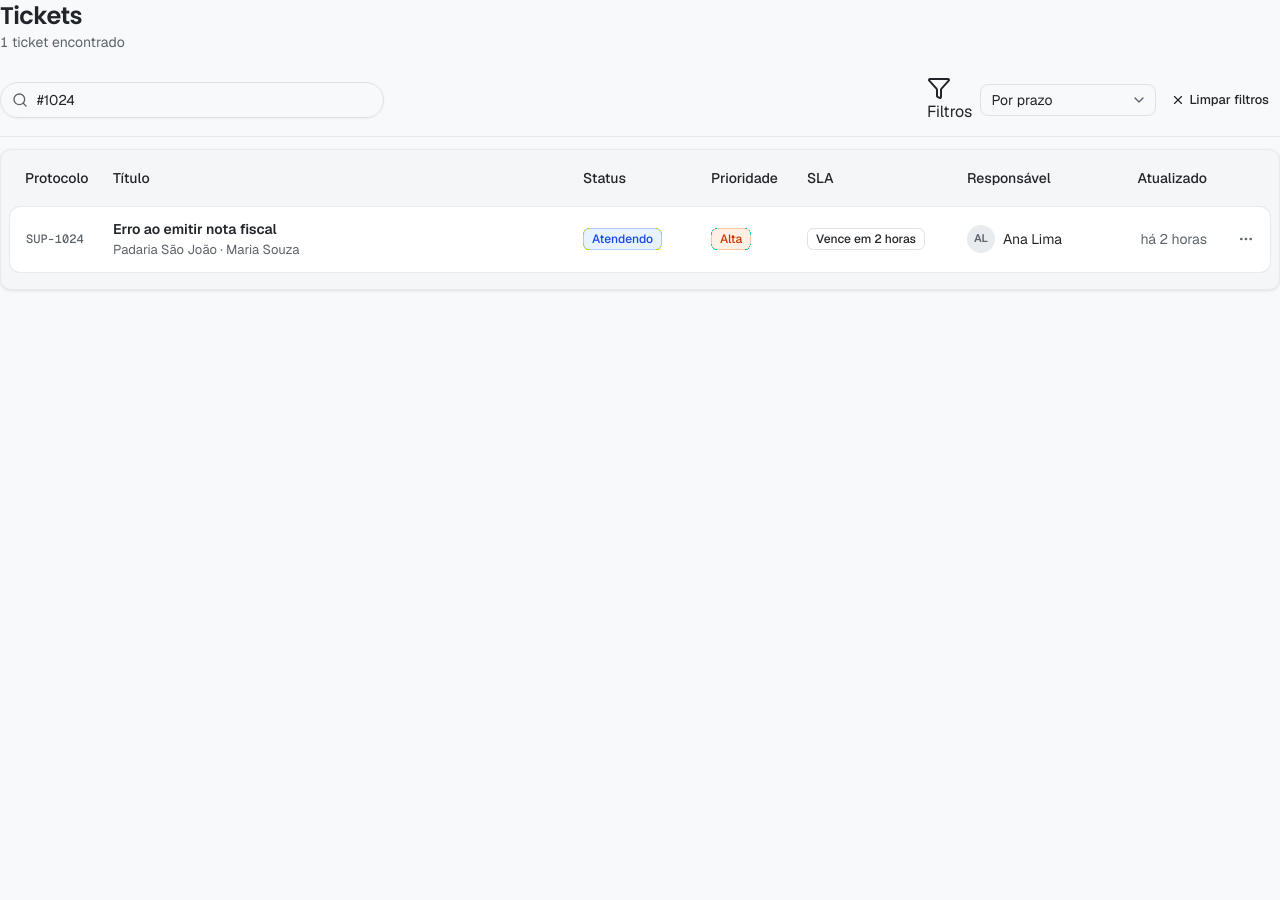
Test: TicketsTable — busca › protocolo na busca avisa, no painel, que o status é ignorado
Click the button "Filtros" at (950, 100), box [927,76,972,124]
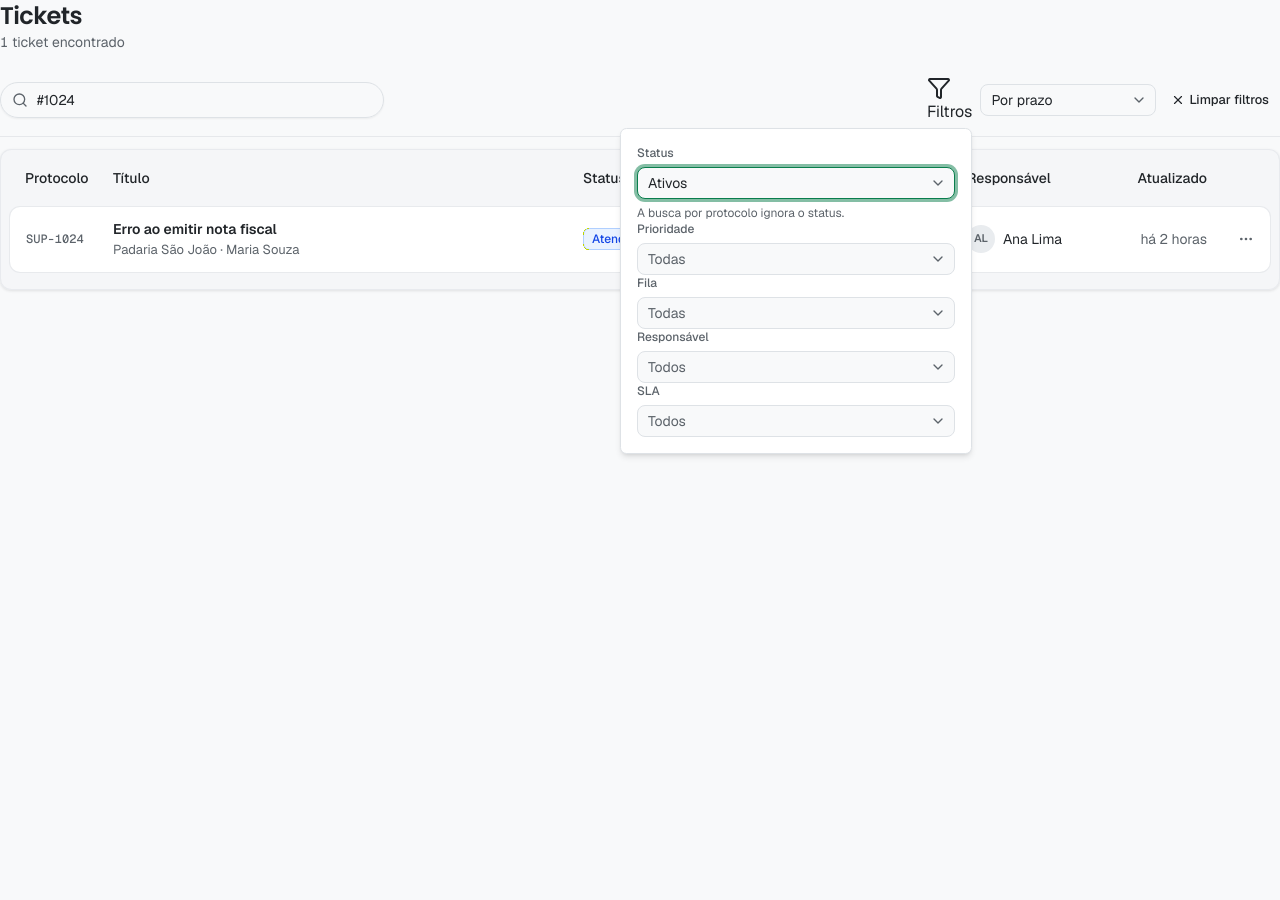
expect the text "A busca por protocolo ignora o status." is shown: met, box [637,205,844,221]
